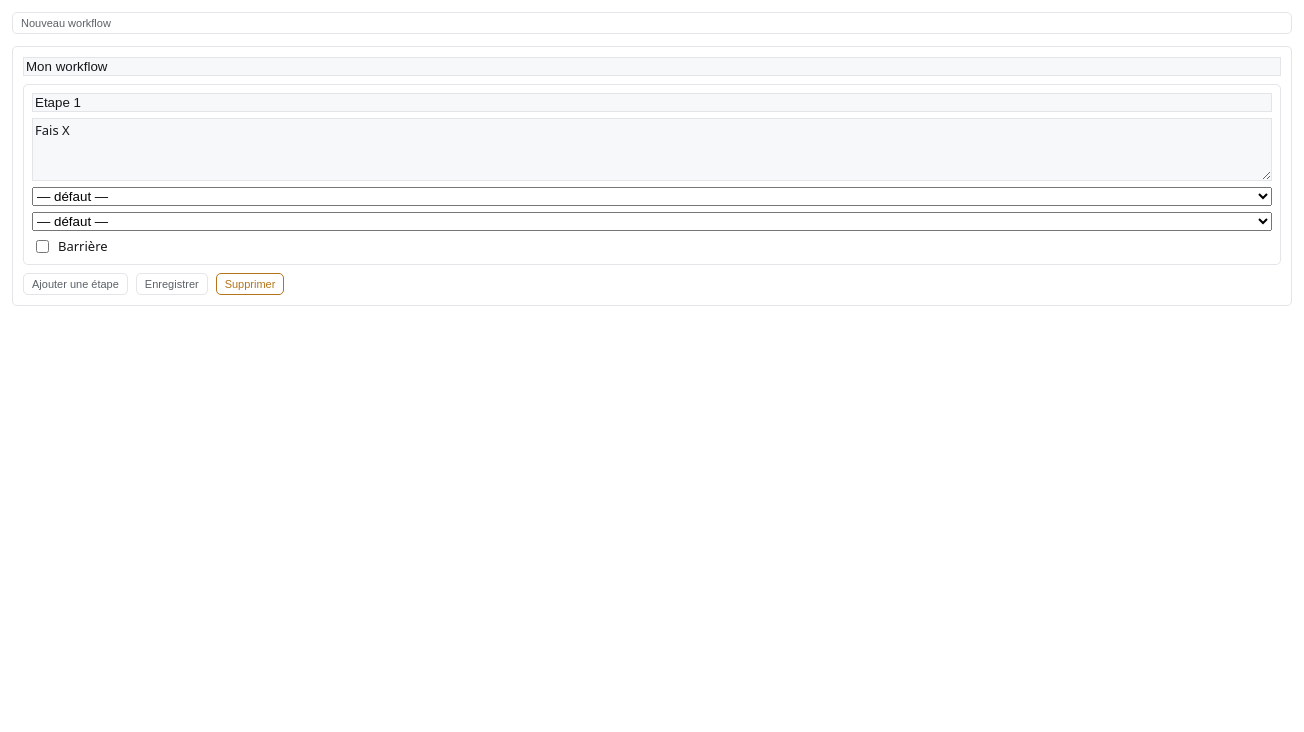
Scenario: le bouton Ajouter une etape ajoute une etape supplementaire
The image size is (1304, 732).
Expected: the number of fields named "nom de l'étape" is 1, 32,93 -> 1272,112
Step 1. Click the button "Ajouter une étape" → (75, 284), box 23,272 -> 128,294
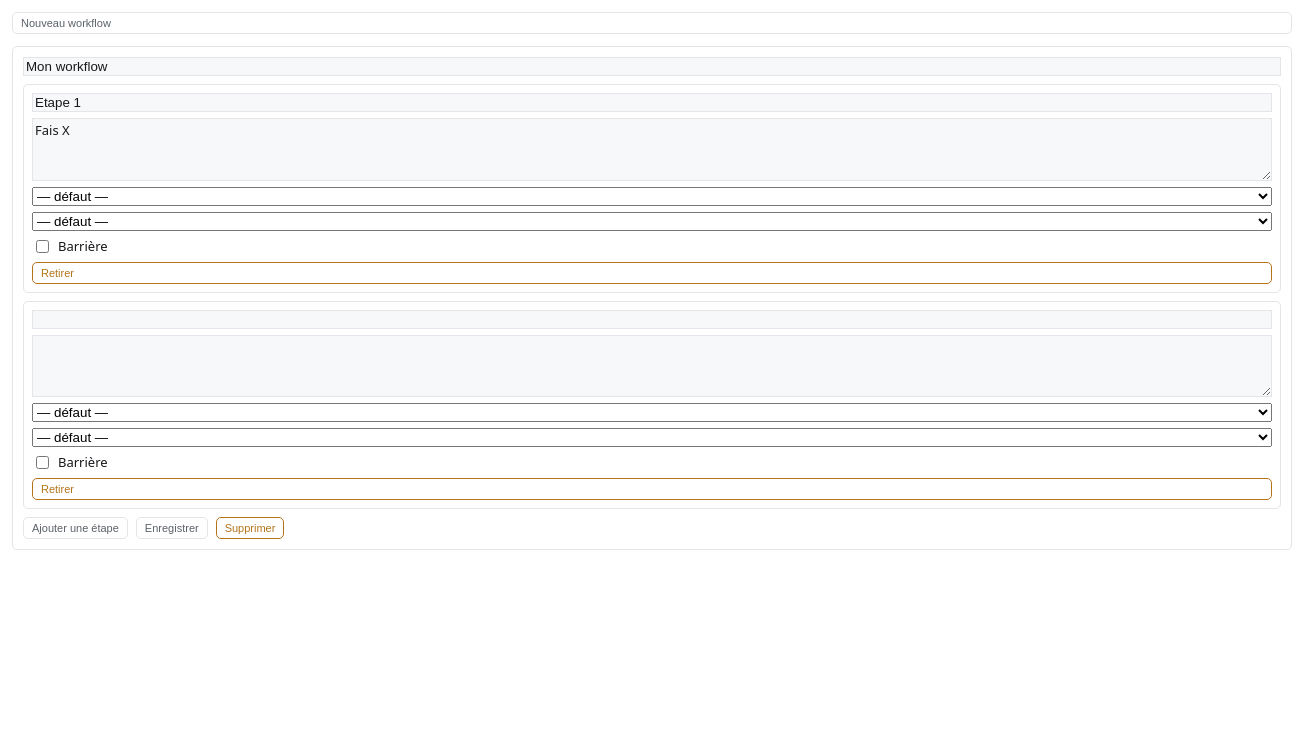
Expected: the number of fields named "nom de l'étape" is 2, 32,93 -> 1272,112; 32,310 -> 1272,328
